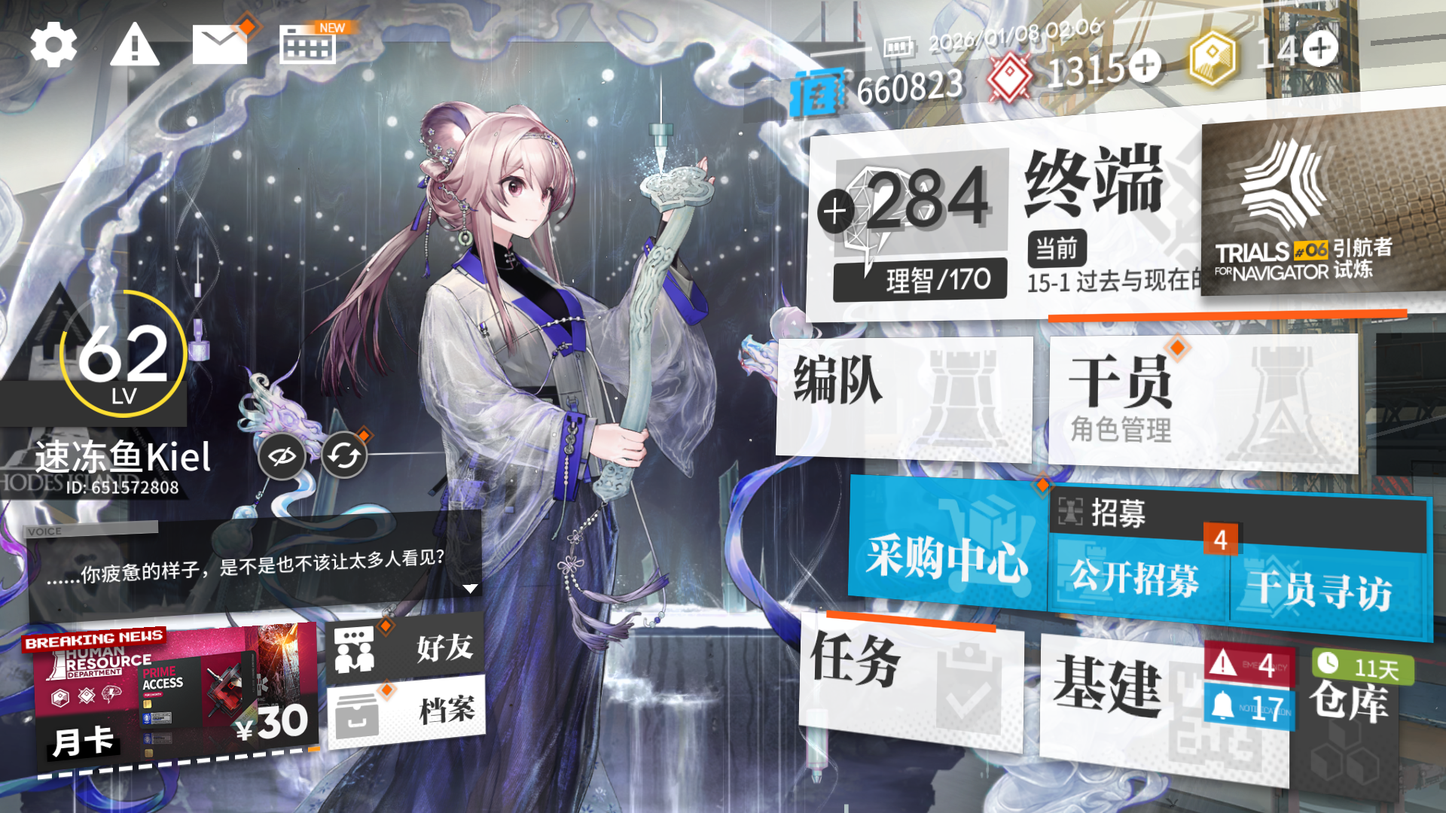home_button: (1004, 131, 1195, 234)
infrastructure_button: (1028, 637, 1286, 766)
